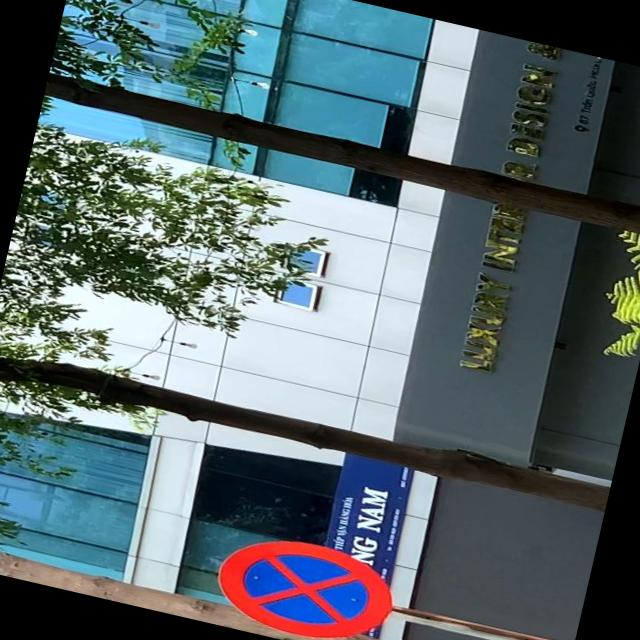P-130: (209, 524, 399, 640)
